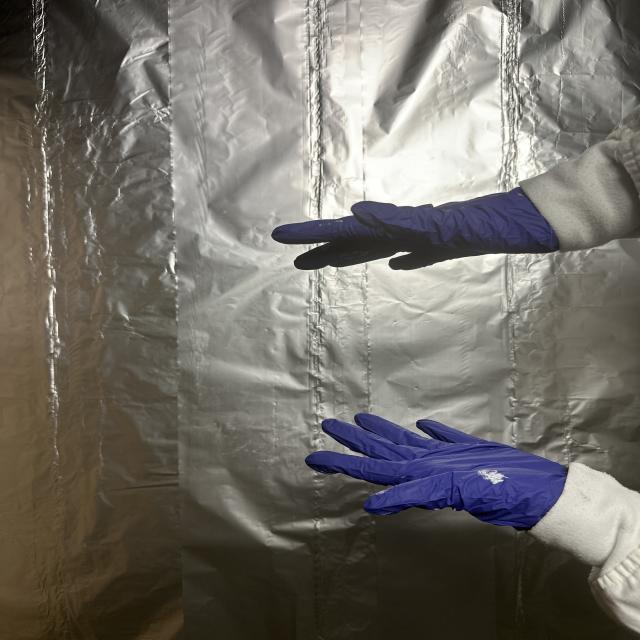gloves_contaminated: (306, 414, 567, 529), (272, 189, 559, 270)
